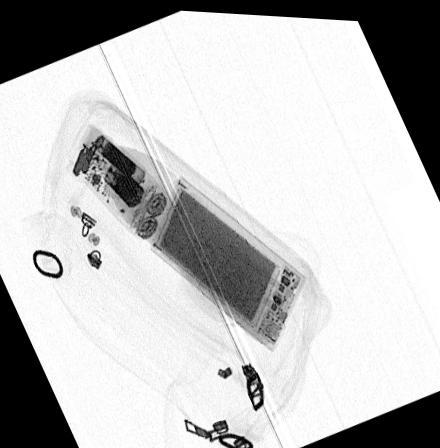Powerbank: (145, 173, 307, 350)
